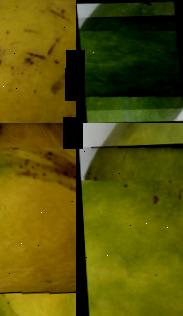PartiallyRipe: (77, 138, 183, 316)
Ripe: (0, 123, 76, 316), (0, 0, 76, 123)
Unripe: (76, 13, 183, 111)
